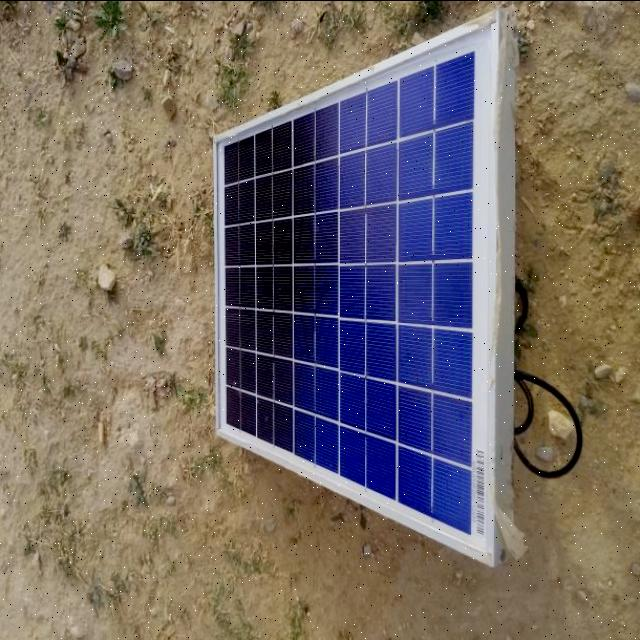Normal Solar Panel: (214, 10, 495, 562)
